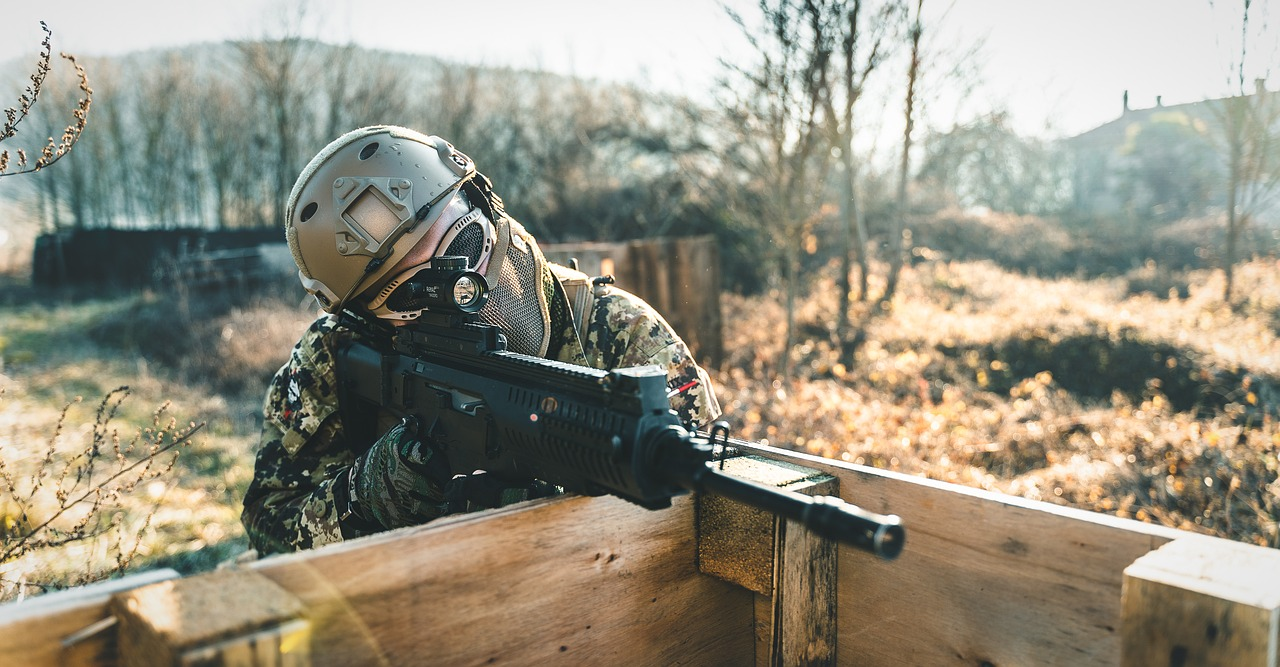gun: (325, 251, 909, 565)
